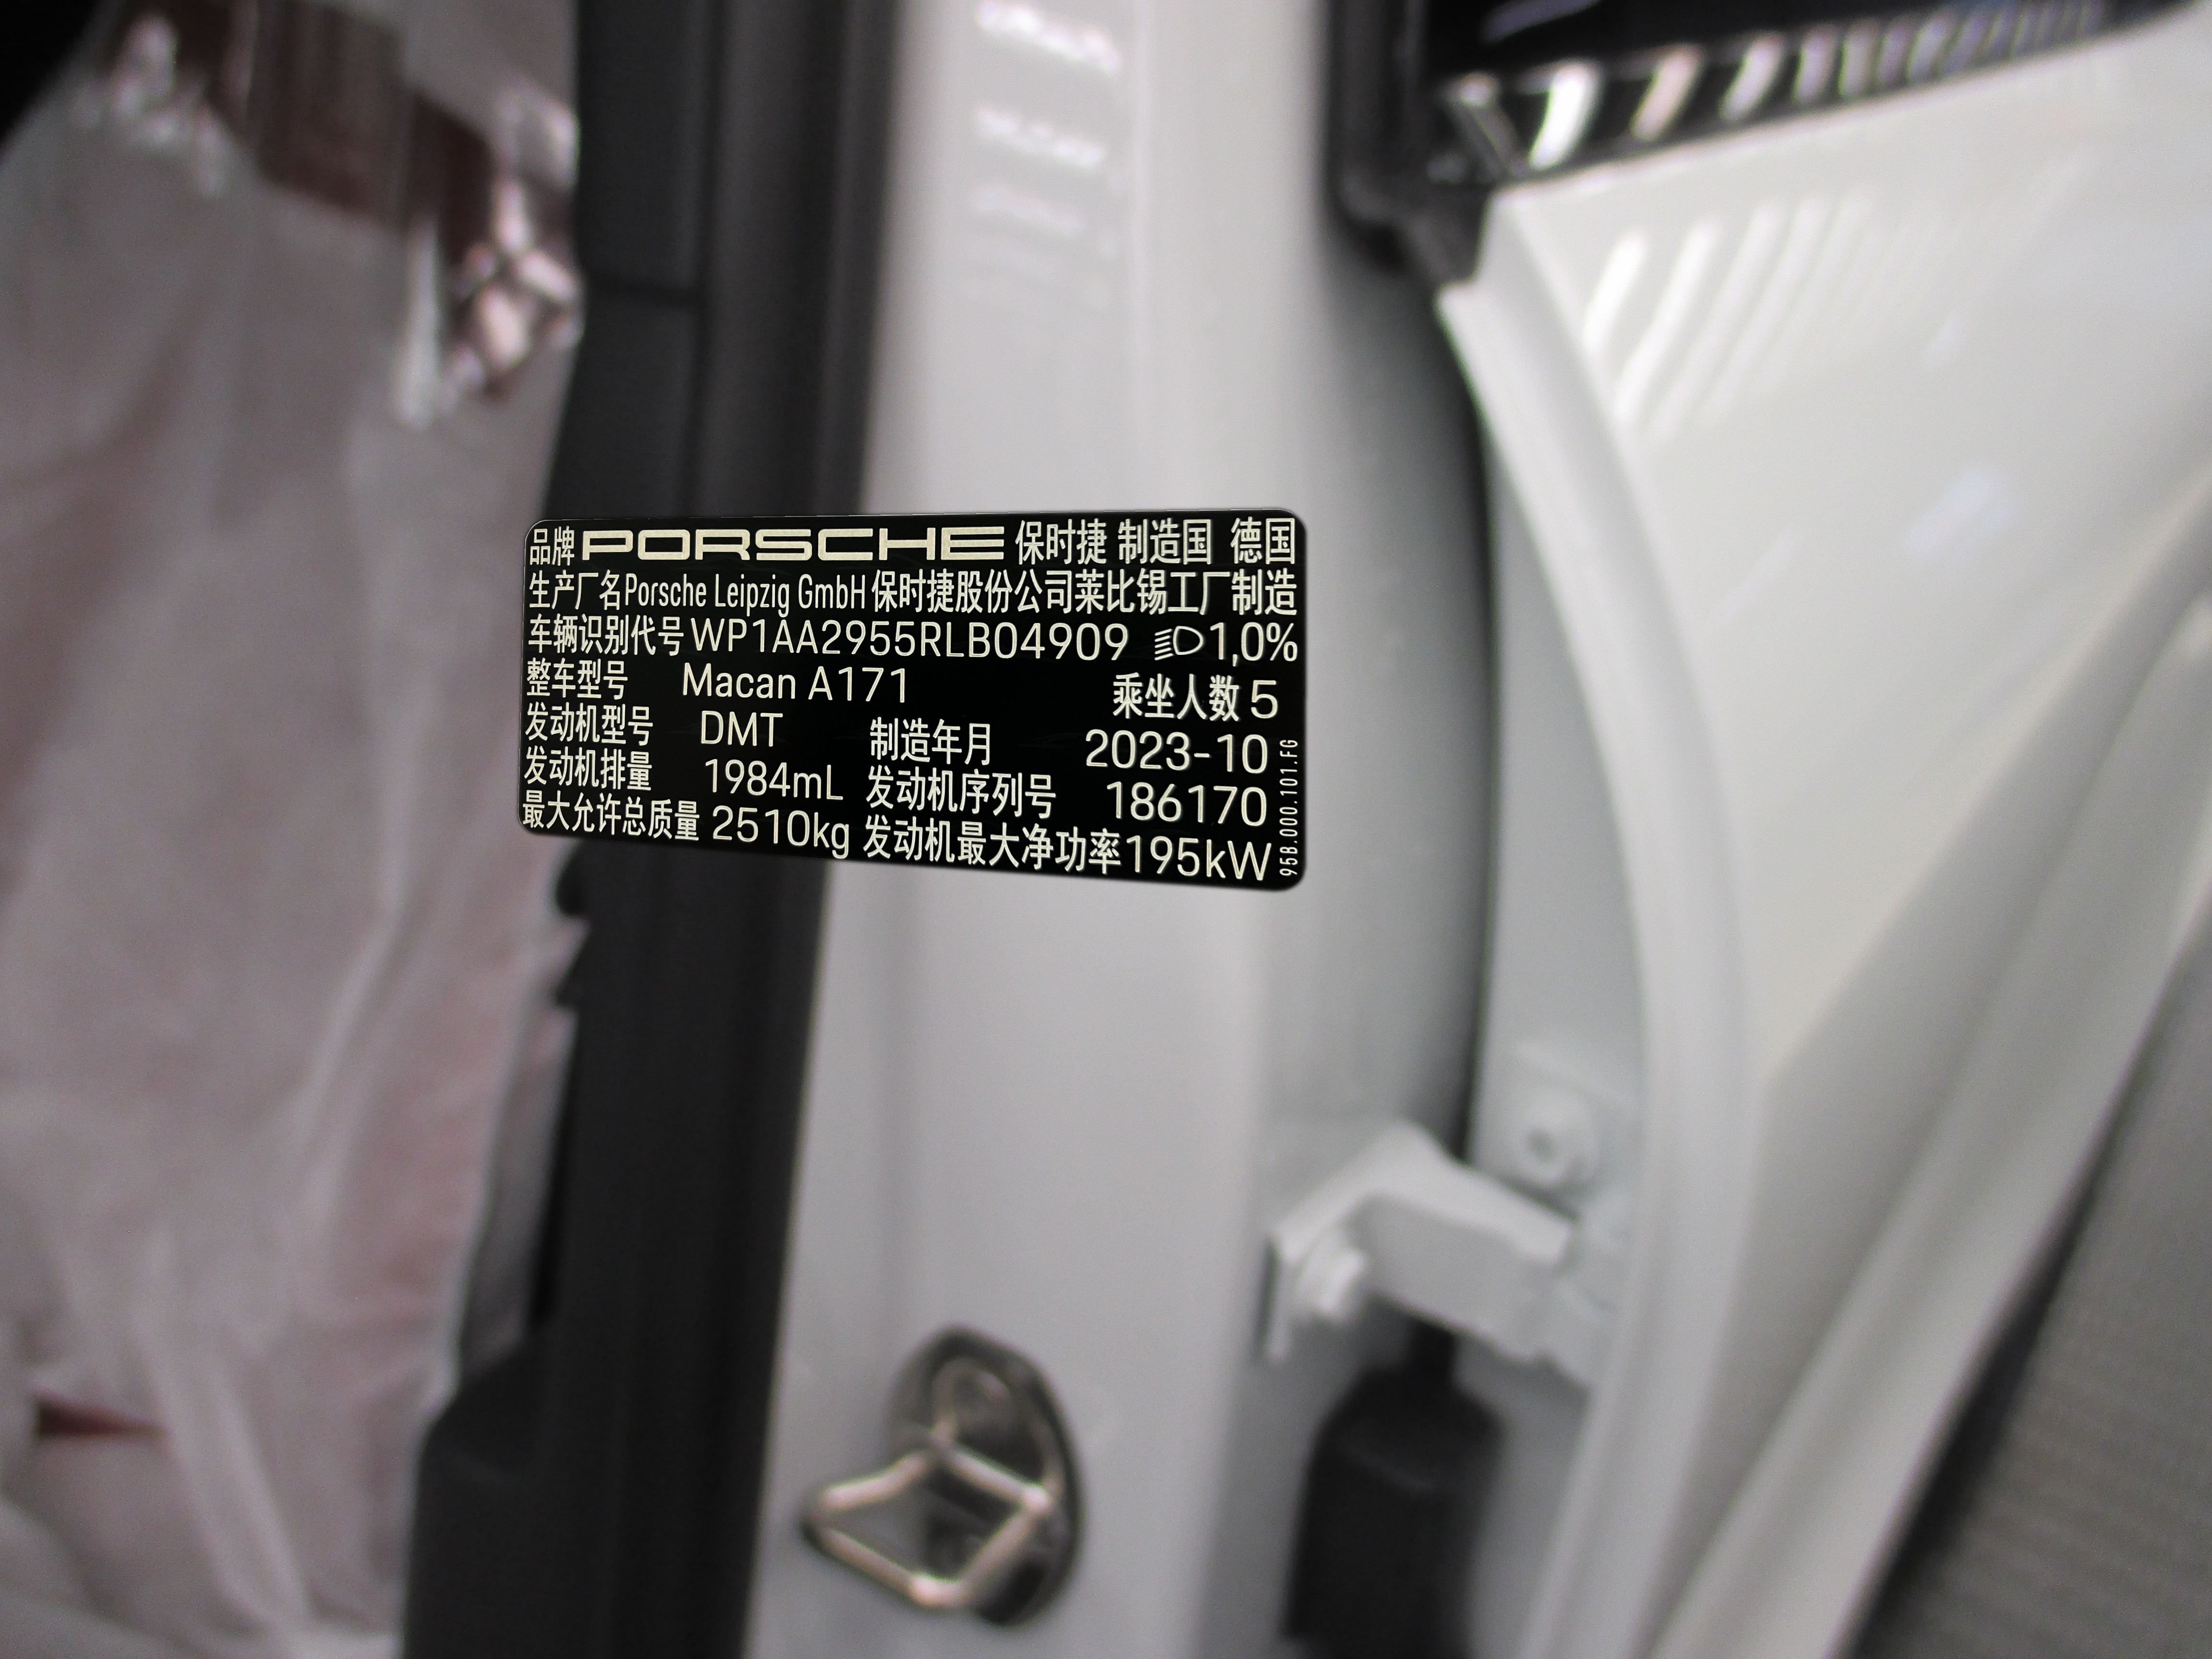Typlabel-China: (517, 509, 1306, 890)
